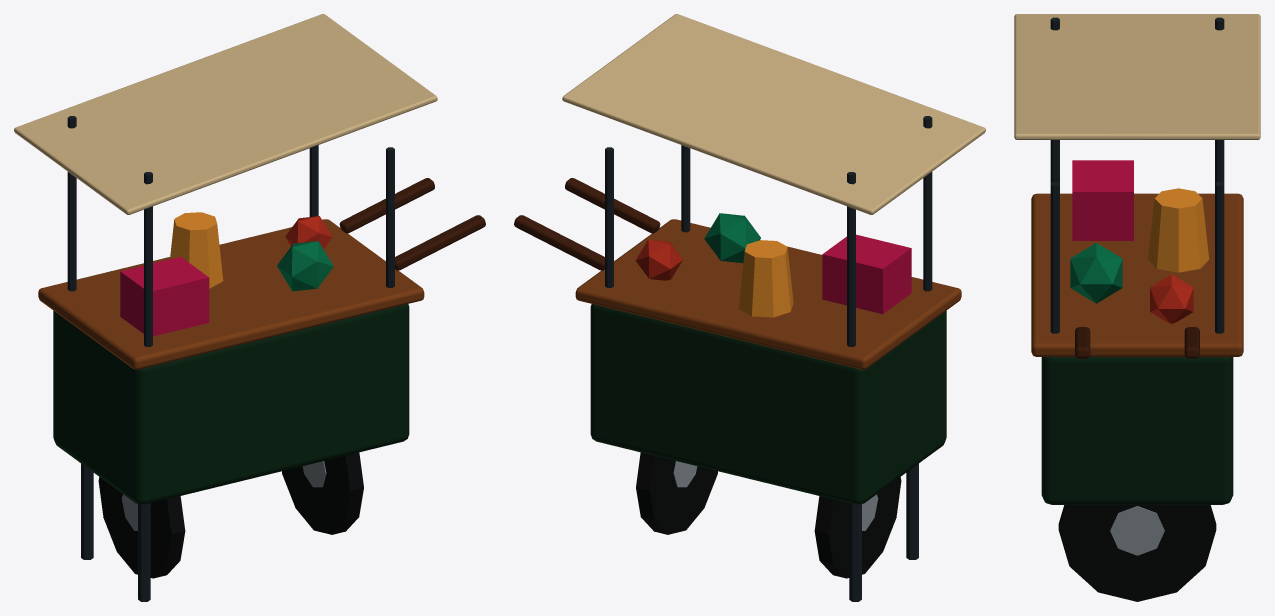
The model's file is xe_day.glb.
3 renders of one model, left to right at view 1: azimuth 30°, elevation 25°; view 2: azimuth 150°, elevation 25°; view 3: azimuth 270°, elevation 25°, orthographic. The views are drawn at different scales.
Size of the model in its own units: 1.41 by 1.6 by 0.72.
